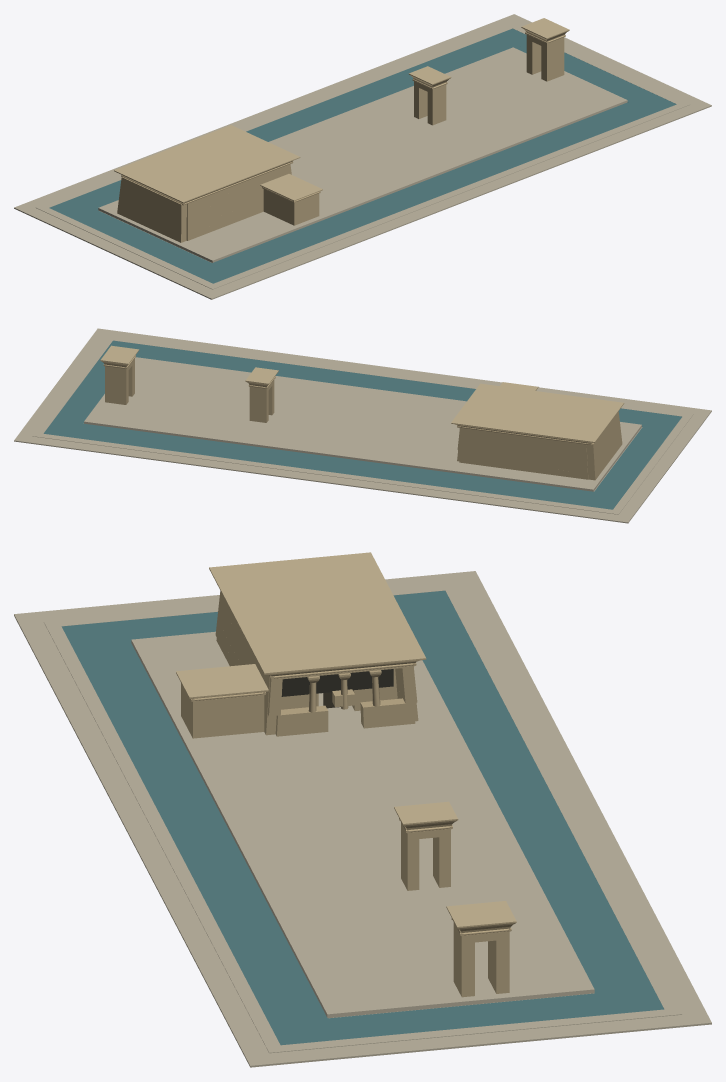
File: templo-de-debod-far.glb
The picture shows the model from 3 angles, top to bottom: view 1: azimuth 30°, elevation 25°; view 2: azimuth 150°, elevation 25°; view 3: azimuth 270°, elevation 25°; orthographic projection. The views are drawn at different scales.
Parts seen in each view (by area): view 1: templo-de-debod-0-platform, templo-de-debod-0-water, templo-de-debod-0-stone, templo-de-debod-0-cornice; view 2: templo-de-debod-0-platform, templo-de-debod-0-water, templo-de-debod-0-stone, templo-de-debod-0-cornice; view 3: templo-de-debod-0-platform, templo-de-debod-0-water, templo-de-debod-0-cornice, templo-de-debod-0-stone, templo-de-debod-0-recess.
Part boxes in pixels (<box>): templo-de-debod-0-platform: <box>14,14,711,299</box>; templo-de-debod-0-water: <box>49,28,676,283</box>; templo-de-debod-0-stone: <box>114,27,569,242</box>; templo-de-debod-0-cornice: <box>114,18,569,202</box>; templo-de-debod-0-platform: <box>14,328,711,523</box>; templo-de-debod-0-water: <box>44,340,681,509</box>; templo-de-debod-0-stone: <box>100,350,624,480</box>; templo-de-debod-0-cornice: <box>101,345,623,441</box>; templo-de-debod-0-platform: <box>14,571,711,1067</box>; templo-de-debod-0-water: <box>61,590,664,1045</box>; templo-de-debod-0-cornice: <box>176,552,516,926</box>; templo-de-debod-0-stone: <box>176,568,516,997</box>; templo-de-debod-0-recess: <box>281,669,393,696</box>.
Bounding box in the file's own units: 94.13 × 7 × 56.1.
